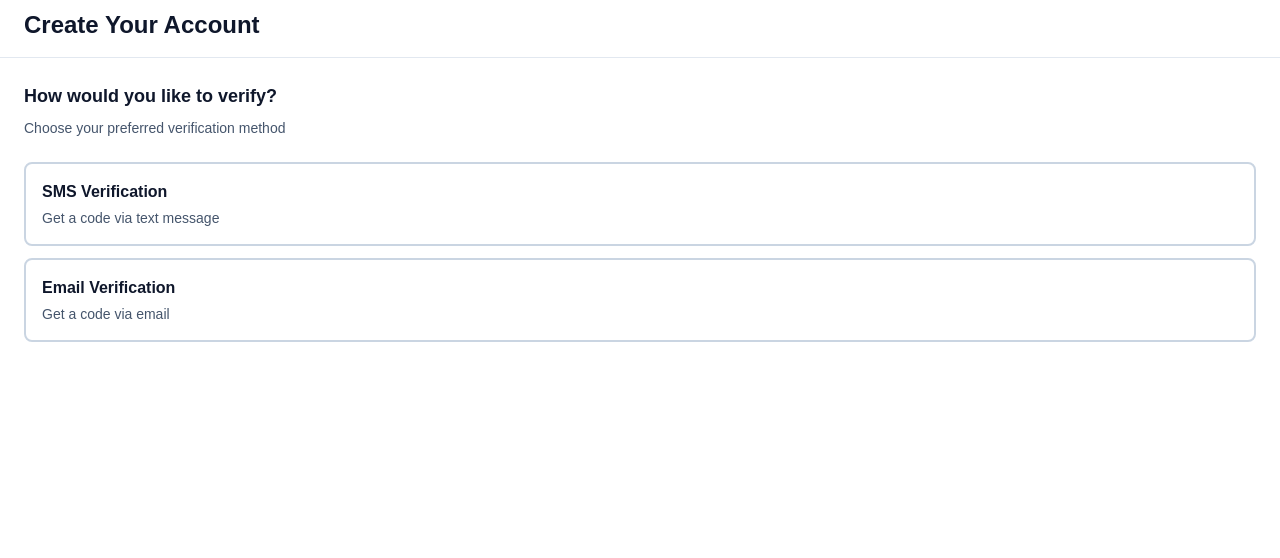
Customer Signup Page › Channel Selection Step › transitions to details step when SMS is selected
Click the button "SMS Verification".
click(105, 192)  # box x1=24 y1=162 x2=1256 y2=246
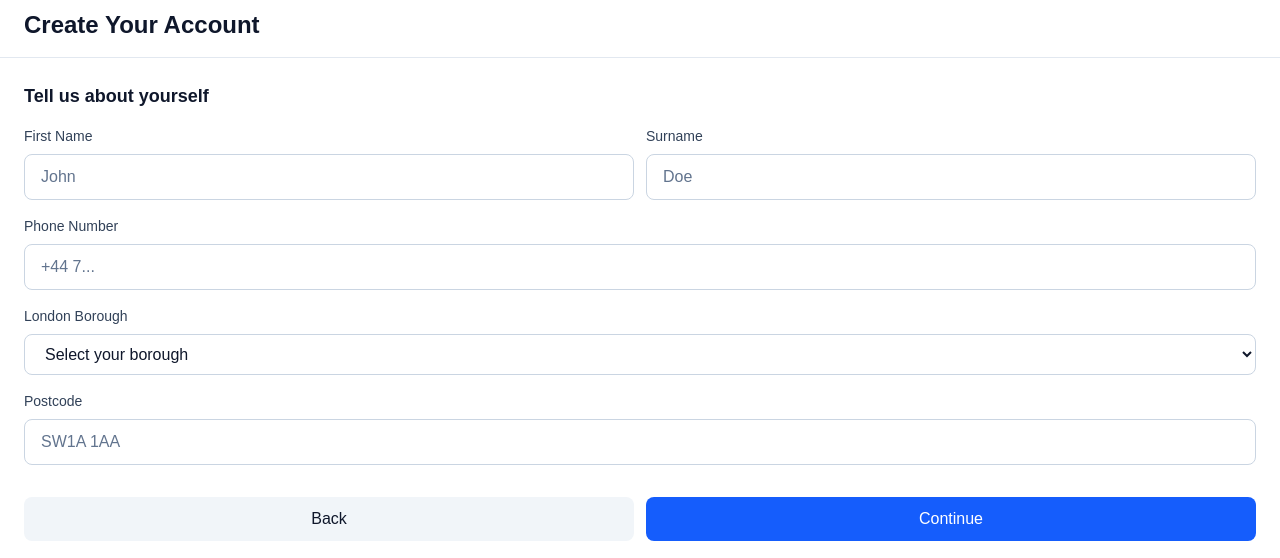
Check: the heading "Tell us about yourself" is shown, box x1=24 y1=86 x2=209 y2=106
